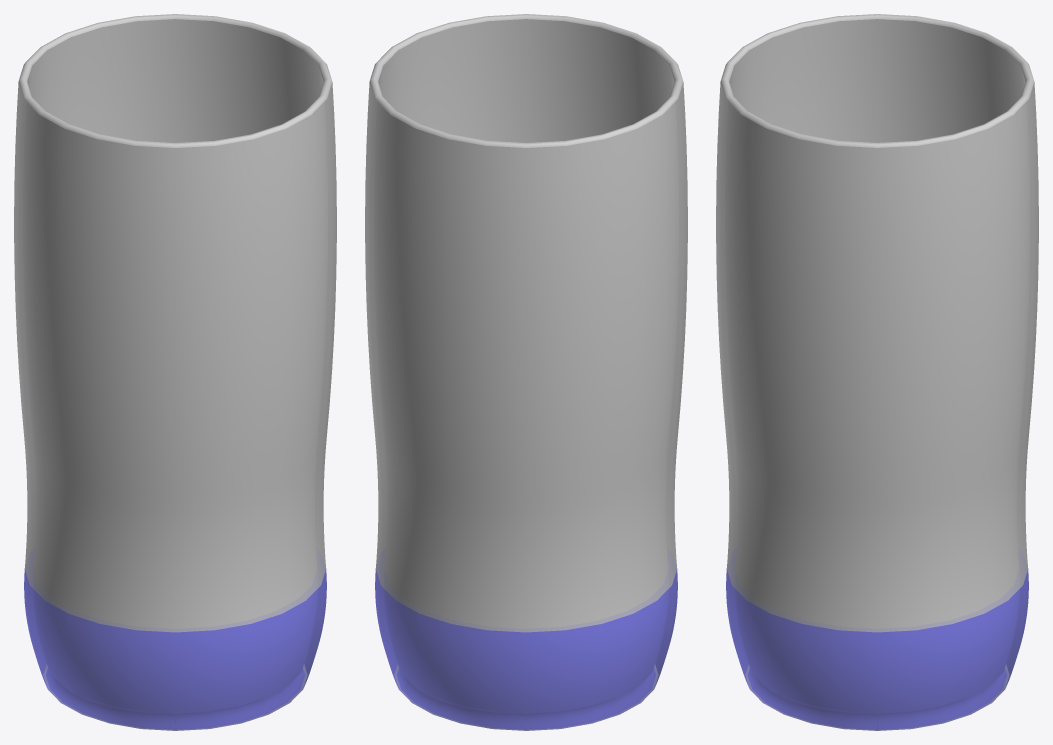
Rendered from glass.dae.
The picture shows the model from 3 angles, left to right: view 1: azimuth 30°, elevation 25°; view 2: azimuth 150°, elevation 25°; view 3: azimuth 270°, elevation 25°; orthographic projection.
Parts seen in each view (by area): view 1: SketchUp (×3); view 2: SketchUp (×3); view 3: SketchUp (×3).
Boxes of the visible parts, left/top/right/bottom form: SketchUp (×3): left=14, top=14, right=336, bottom=730; SketchUp (×3): left=365, top=14, right=687, bottom=730; SketchUp (×3): left=716, top=14, right=1038, bottom=730.
Size of the model in its own units: 2.91 by 2.91 by 5.93.
